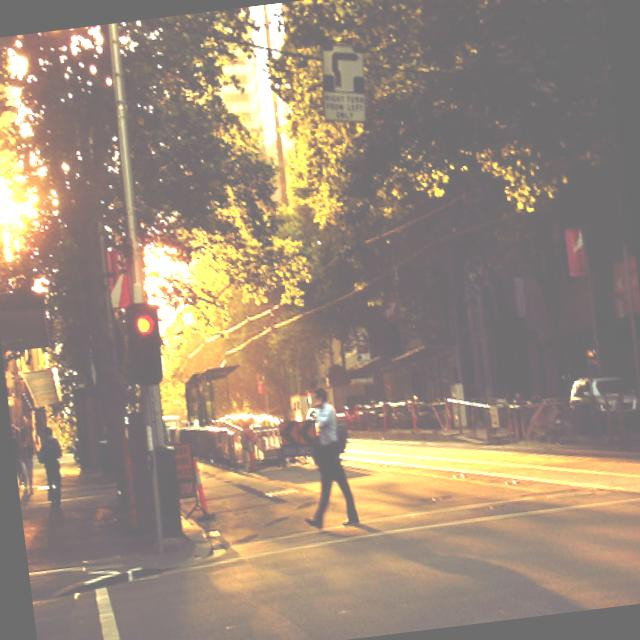Vehicle: (567, 372, 640, 444), (384, 397, 438, 431), (566, 376, 598, 416), (366, 406, 384, 428)
